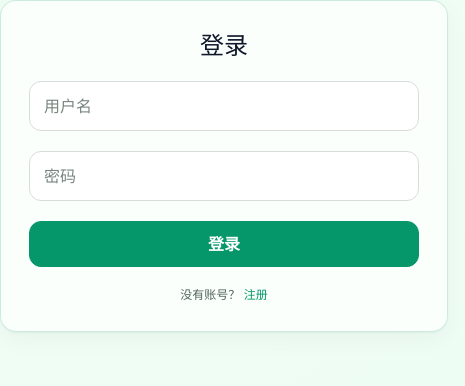
Scenario: 登录页 › 用户名不足 2 个字符时阻止登录
The image size is (465, 386).
Type "a" into the field labelled "用户名".
click(224, 106); type("a")  # box [29,81,419,131]
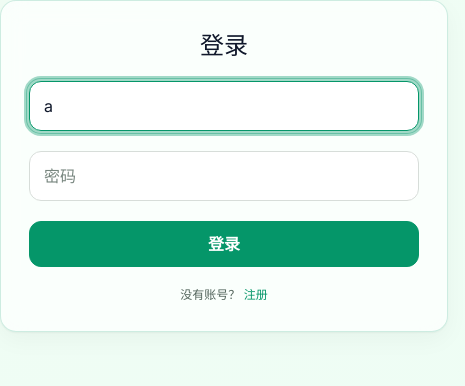
Type "123456" into the password field labelled "密码".
click(224, 176); type("123456")  # box [29,151,419,201]
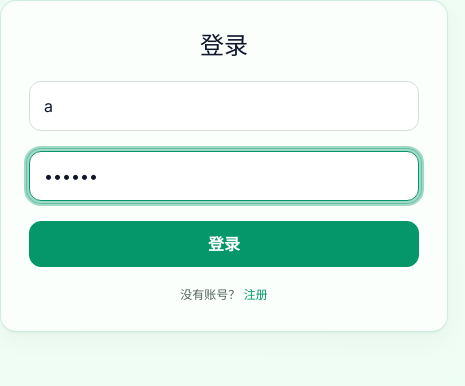
Click the button "登录".
click(224, 244)  # box [29,221,419,267]
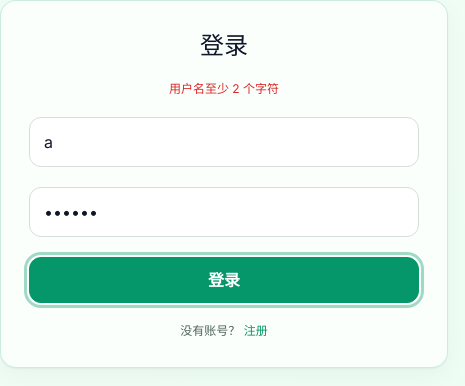
Check: the message reads "用户名至少 2 个字符", box [169,81,279,96]
